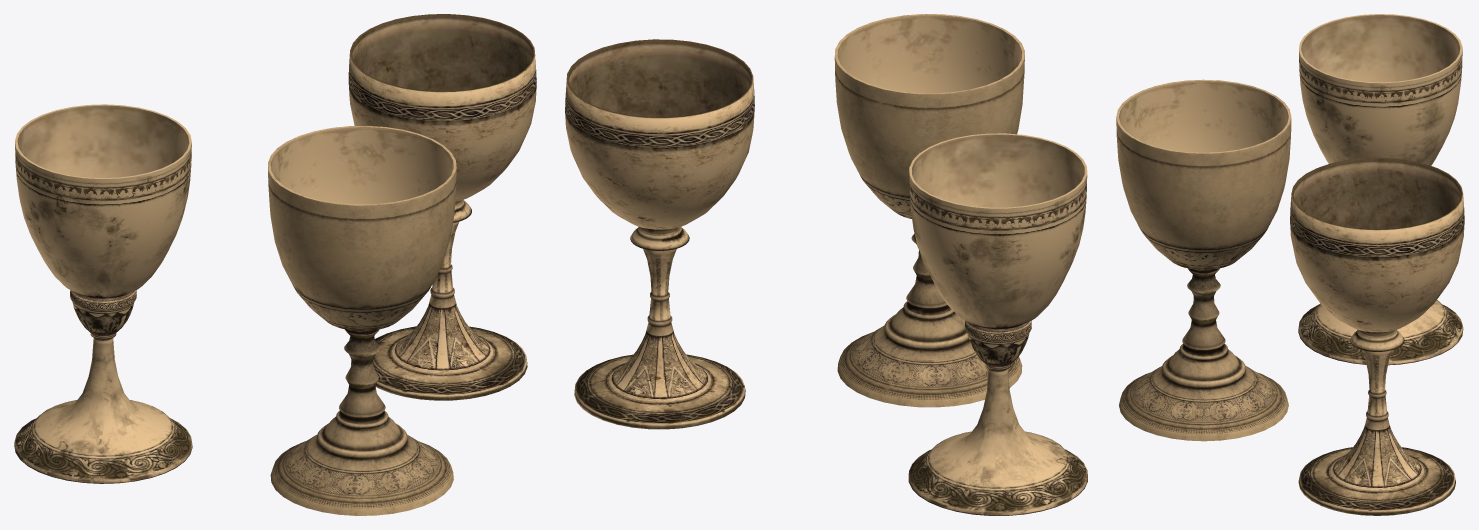
Rendered from brass_goblets.glb.
3 renders of one model, left to right at view 1: azimuth 30°, elevation 25°; view 2: azimuth 150°, elevation 25°; view 3: azimuth 270°, elevation 25°, orthographic. The views are drawn at different scales.
Visible parts, largest first — view 1: brass_goblet_01, brass_goblet_02, brass_goblet_03; view 2: brass_goblet_02, brass_goblet_03, brass_goblet_01; view 3: brass_goblet_01, brass_goblet_03, brass_goblet_02.
Part boxes in pixels (box(x1,y1,x2,y2)): brass_goblet_01: box(268, 126, 456, 515); brass_goblet_02: box(14, 104, 192, 483); brass_goblet_03: box(348, 14, 536, 400); brass_goblet_02: box(908, 133, 1087, 515); brass_goblet_03: box(565, 39, 754, 429); brass_goblet_01: box(834, 14, 1024, 407); brass_goblet_01: box(1116, 79, 1291, 441); brass_goblet_03: box(1290, 157, 1464, 515); brass_goblet_02: box(1298, 14, 1463, 365).
Bounding box in the file's own units: 0.4534 × 0.2734 × 0.2976.
Materials: 3 (3 with a texture image).
